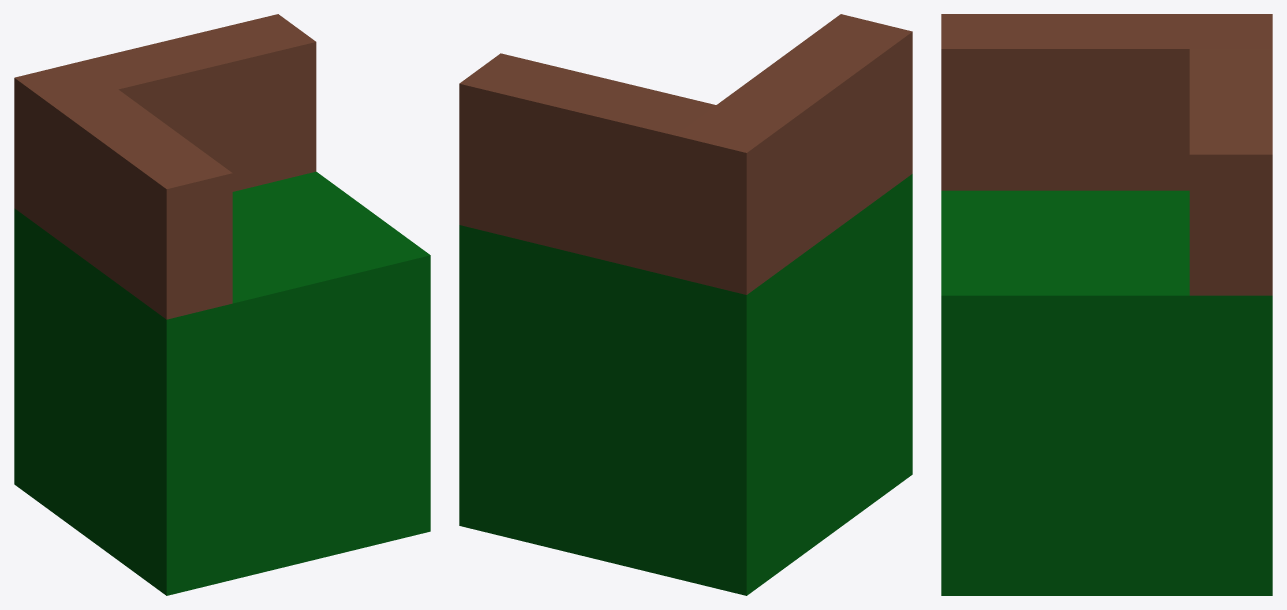
Rendered from Angle.fbx.
The picture shows the model from 3 angles, left to right: view 1: azimuth 30°, elevation 25°; view 2: azimuth 150°, elevation 25°; view 3: azimuth 270°, elevation 25°; orthographic projection. The views are drawn at different scales.
Parts seen in each view (by area): view 1: Cube.009; view 2: Cube.009; view 3: Cube.009.
Part boxes in pixels (x1,y1,x2,y2): Cube.009: (14, 14, 430, 595); Cube.009: (459, 14, 912, 595); Cube.009: (941, 14, 1272, 595).
Bounding box in the file's own units: 200 × 294 × 200.
